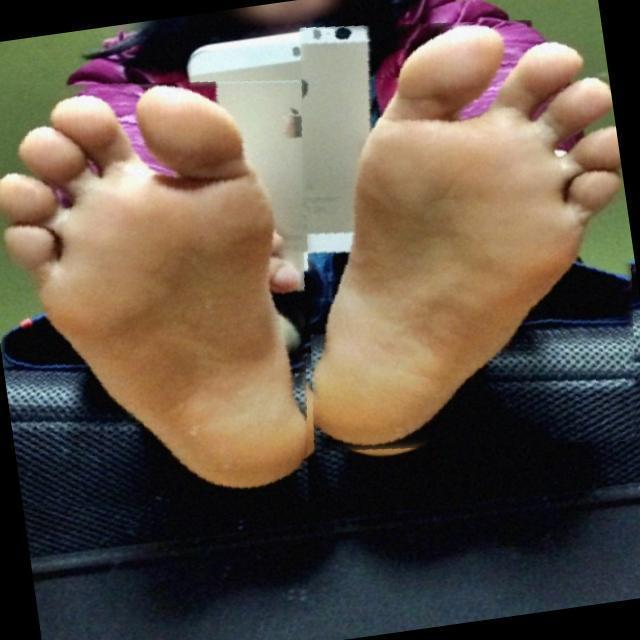No_Shoes: (319, 3, 627, 448), (0, 89, 308, 481)
